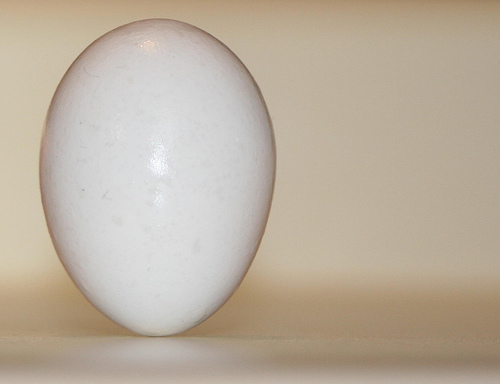egg: (38, 17, 278, 336)
